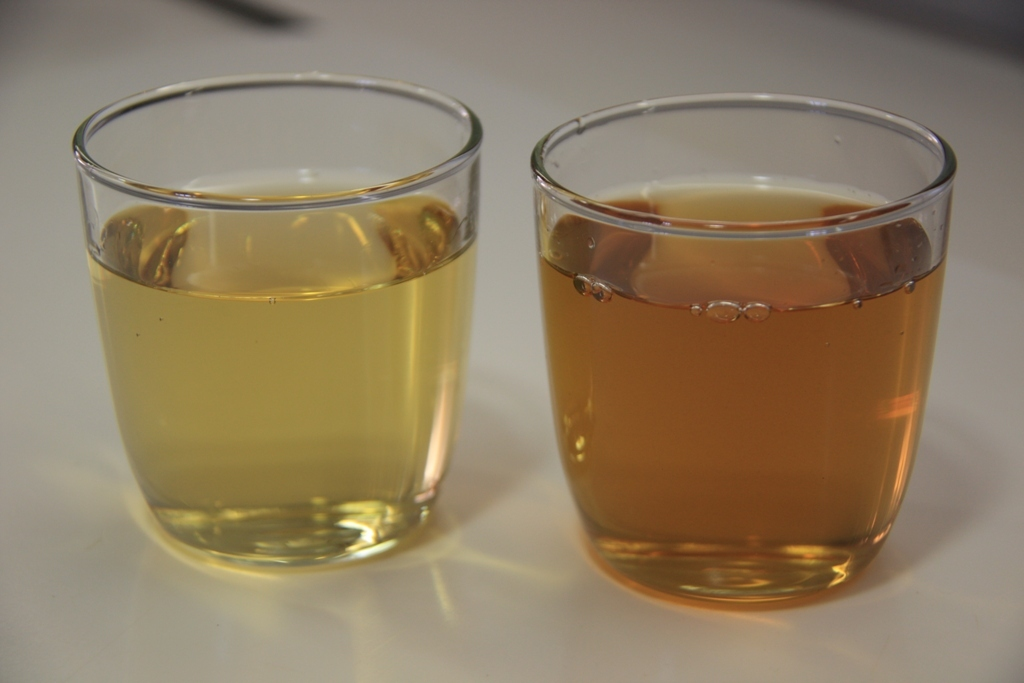Beer: (536, 175, 949, 605), (92, 170, 474, 566)
